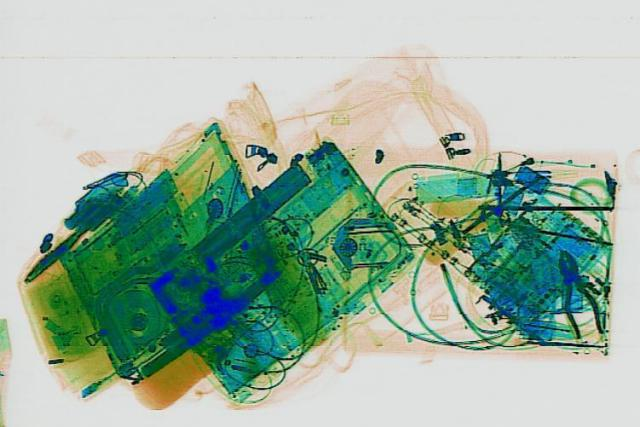Pliers: (544, 246, 606, 338)
